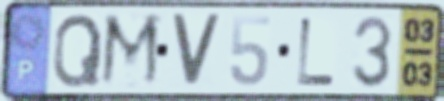3: (350, 13, 395, 90)
5: (228, 14, 273, 89)
L: (294, 15, 339, 88)
M: (97, 11, 164, 91)
Q: (50, 11, 105, 91)
V: (168, 11, 224, 91)
